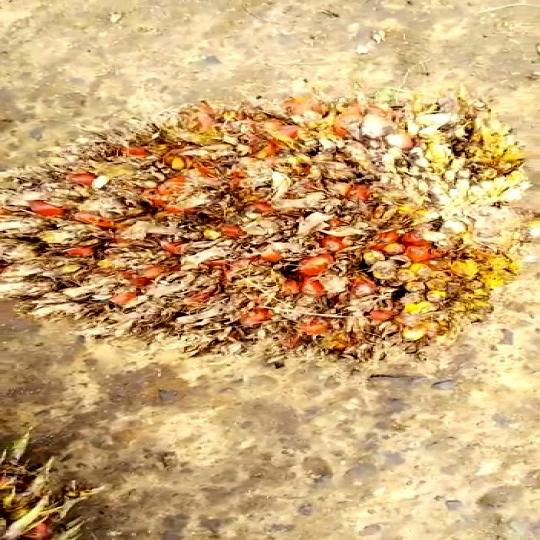terlalu masak: (0, 89, 540, 379)
